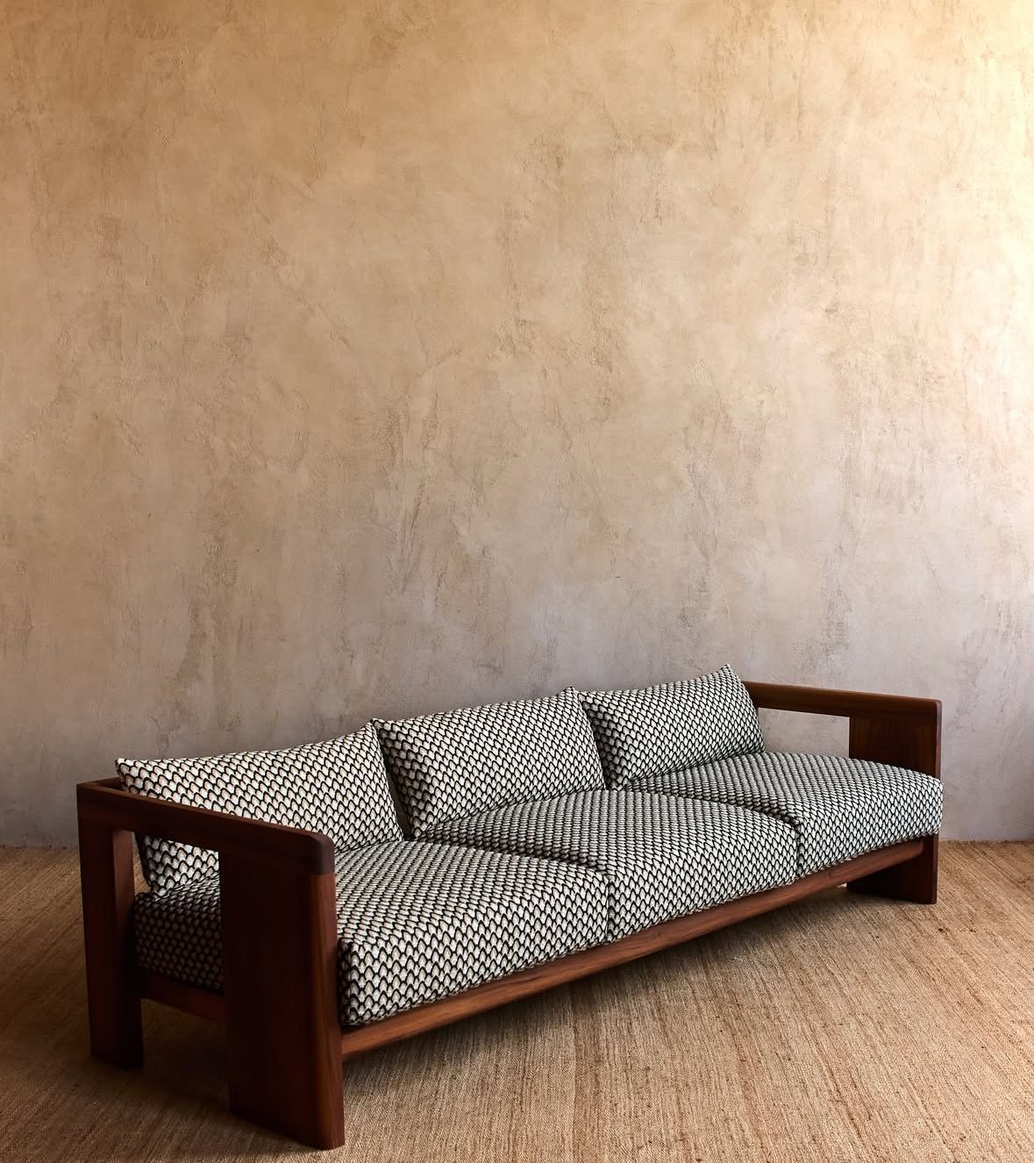3seatersofa: (78, 667, 942, 1148)
backrest: (118, 666, 764, 848)
base: (341, 843, 920, 1059)
leftarmrest: (747, 682, 940, 776)
leg: (227, 986, 343, 1147), (88, 948, 142, 1067), (848, 835, 936, 903)
rightarmrest: (78, 782, 336, 1045)
seat: (338, 751, 942, 1029)
